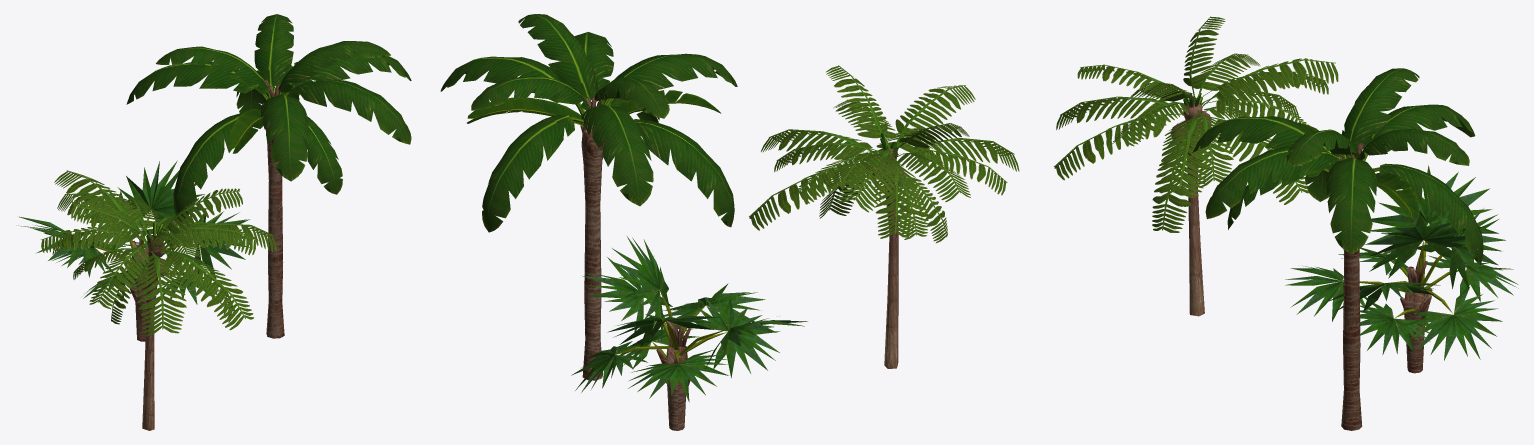
Rendered from palmtree.glb.
3 views of the same model, side by side, from view 1: azimuth 30°, elevation 25°; view 2: azimuth 150°, elevation 25°; view 3: azimuth 270°, elevation 25° (orthographic). The views are drawn at different scales.
Parts seen in each view (by area): view 1: Palm1, Palm3, Palm2; view 2: Palm1, Palm3, Palm2; view 3: Palm1, Palm3, Palm2.
Boxes of the visible parts, x1,y1,x2,y2 form: Palm1: (126, 14, 411, 338); Palm3: (41, 170, 276, 430); Palm2: (16, 160, 253, 341); Palm1: (440, 14, 737, 380); Palm3: (749, 65, 1019, 368); Palm2: (571, 236, 807, 430); Palm1: (1192, 68, 1483, 430); Palm3: (1054, 16, 1338, 316); Palm2: (1285, 165, 1518, 373).
Bounding box in the file's own units: 4.59 × 3.03 × 4.
1 material, 1 textured.
